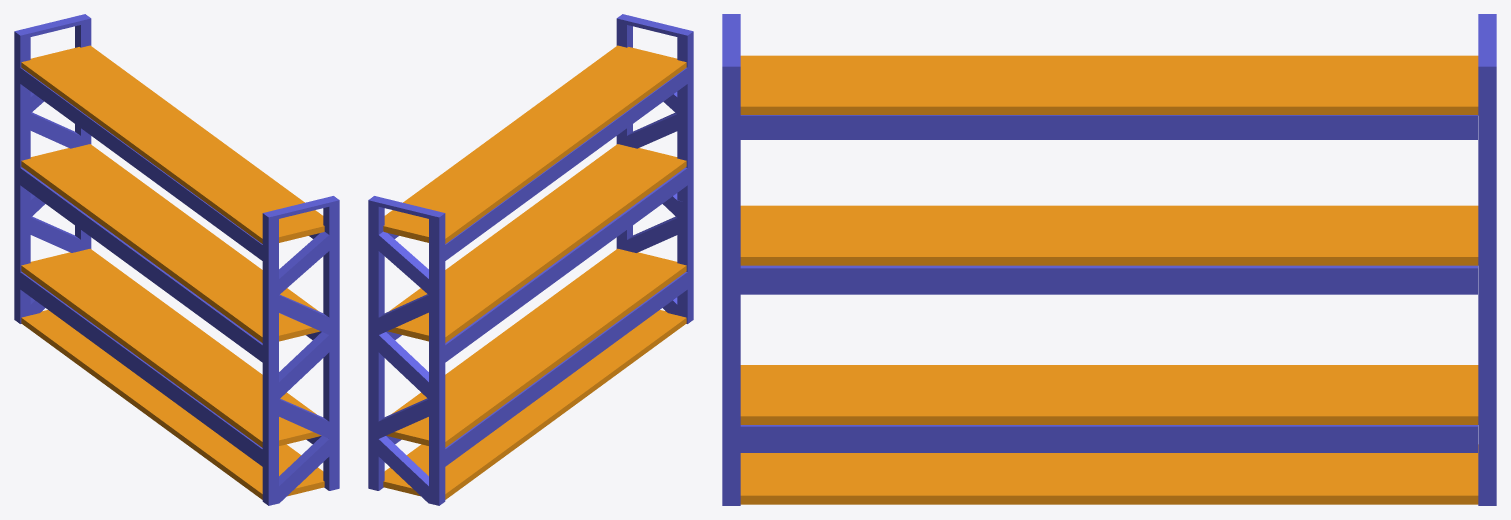
The model's file is Shelving units.fbx.
The picture shows the model from 3 angles, left to right: view 1: azimuth 30°, elevation 25°; view 2: azimuth 150°, elevation 25°; view 3: azimuth 270°, elevation 25°; orthographic projection. The views are drawn at different scales.
Parts seen in each view (by area): view 1: Cube; view 2: Cube; view 3: Cube.
Boxes of the visible parts, x1,y1,x2,y2 form: Cube: (14,14,339,505); Cube: (368,14,693,505); Cube: (722,14,1496,505).
Bounding box in the file's own units: 359 × 1395 × 2227.
